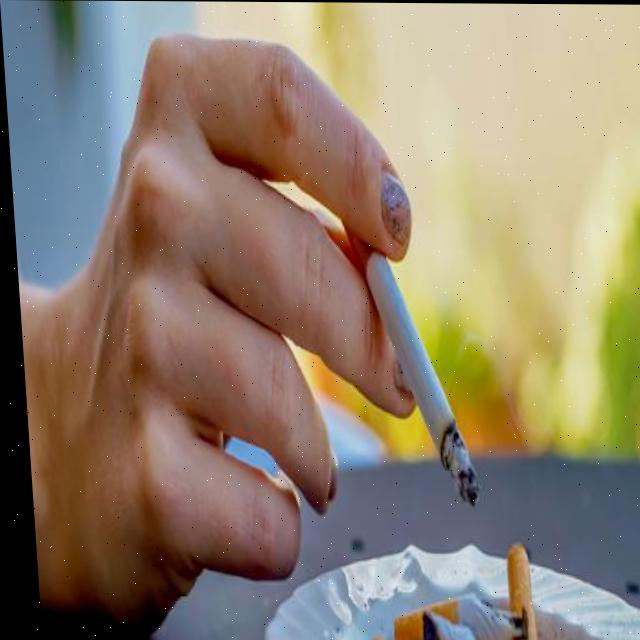cigarette: (341, 222, 475, 509)
